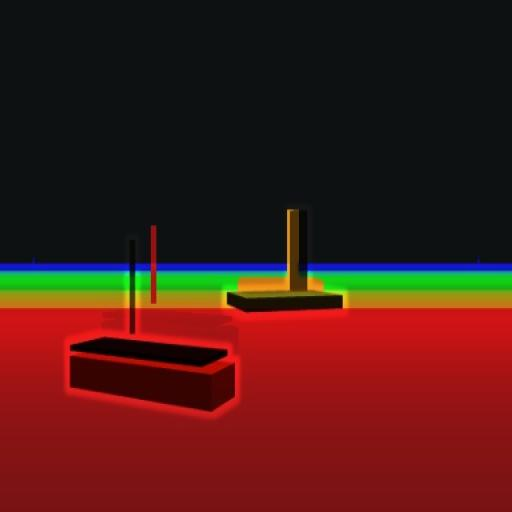platform: (228, 206, 344, 317)
vessel: (68, 240, 237, 412)
